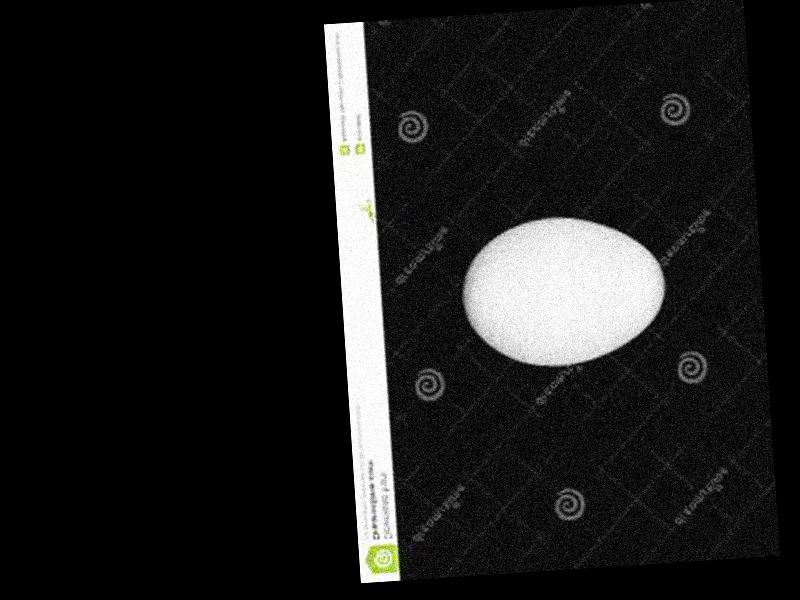Eggs: (458, 207, 668, 370)
